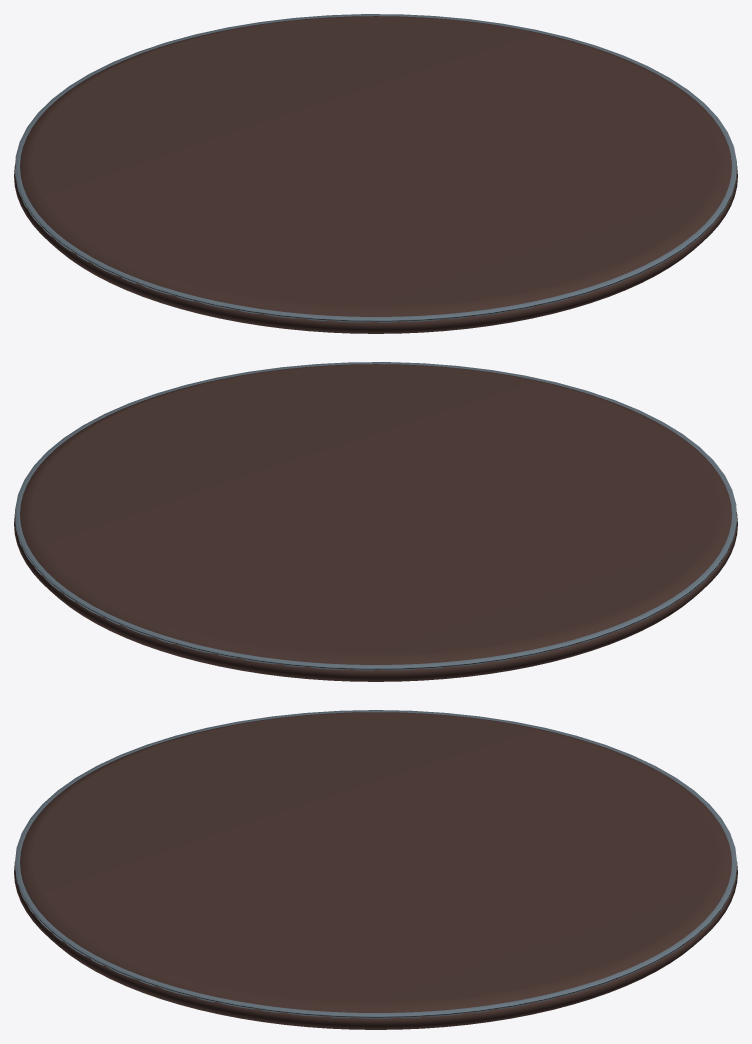
File: apollo_cm.heat_shield.glb
3 renders of one model, top to bottom at view 1: azimuth 30°, elevation 25°; view 2: azimuth 150°, elevation 25°; view 3: azimuth 270°, elevation 25°, orthographic.
Parts seen in each view (by area): view 1: apollo_cm.heat_shield.mesh; view 2: apollo_cm.heat_shield.mesh; view 3: apollo_cm.heat_shield.mesh.
Boxes of the visible parts, x1,y1,x2,y2 form: apollo_cm.heat_shield.mesh: (14, 14, 737, 333); apollo_cm.heat_shield.mesh: (14, 362, 737, 681); apollo_cm.heat_shield.mesh: (14, 710, 737, 1029).
Size of the model in its own units: 3.91 by 0.39 by 3.91.
